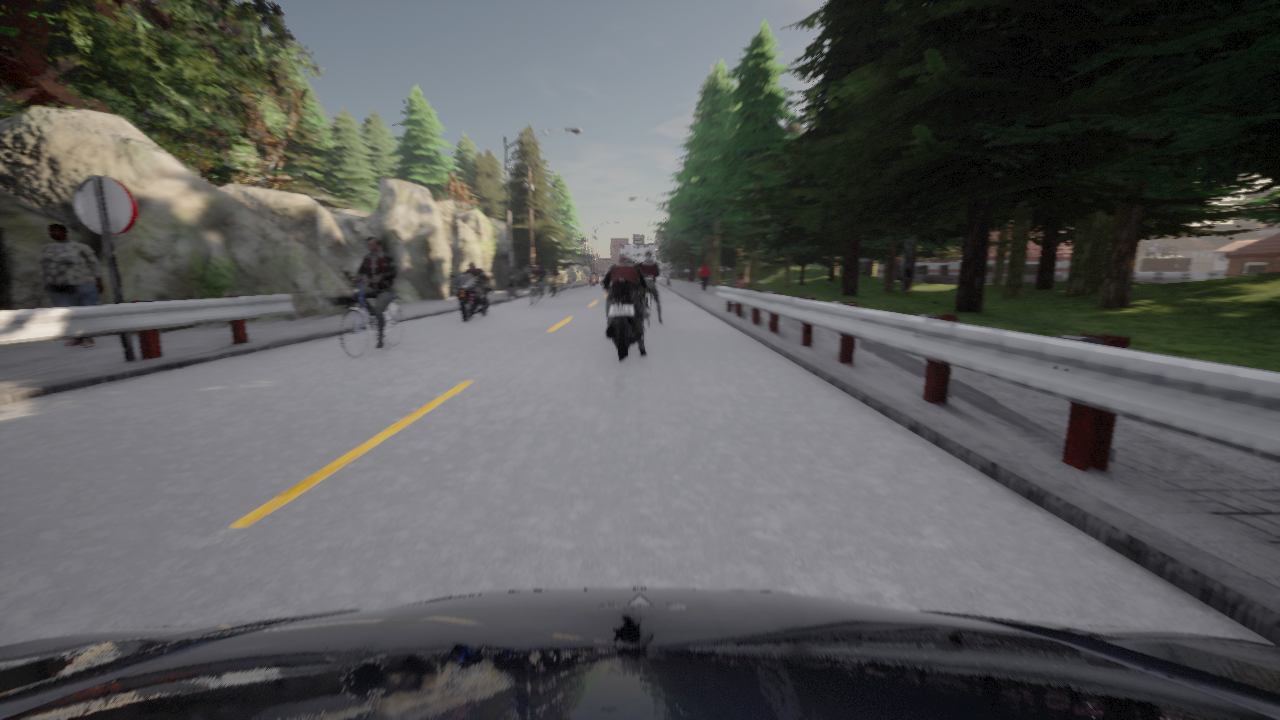cyclist: (0, 588, 1279, 719), (340, 279, 403, 357), (602, 274, 652, 360), (450, 273, 492, 320), (547, 274, 561, 297), (531, 279, 542, 307), (646, 291, 654, 326), (589, 273, 596, 287), (661, 273, 666, 274), (602, 280, 603, 283)
pedestrian: (38, 223, 103, 346), (699, 262, 710, 292), (734, 274, 745, 289)
